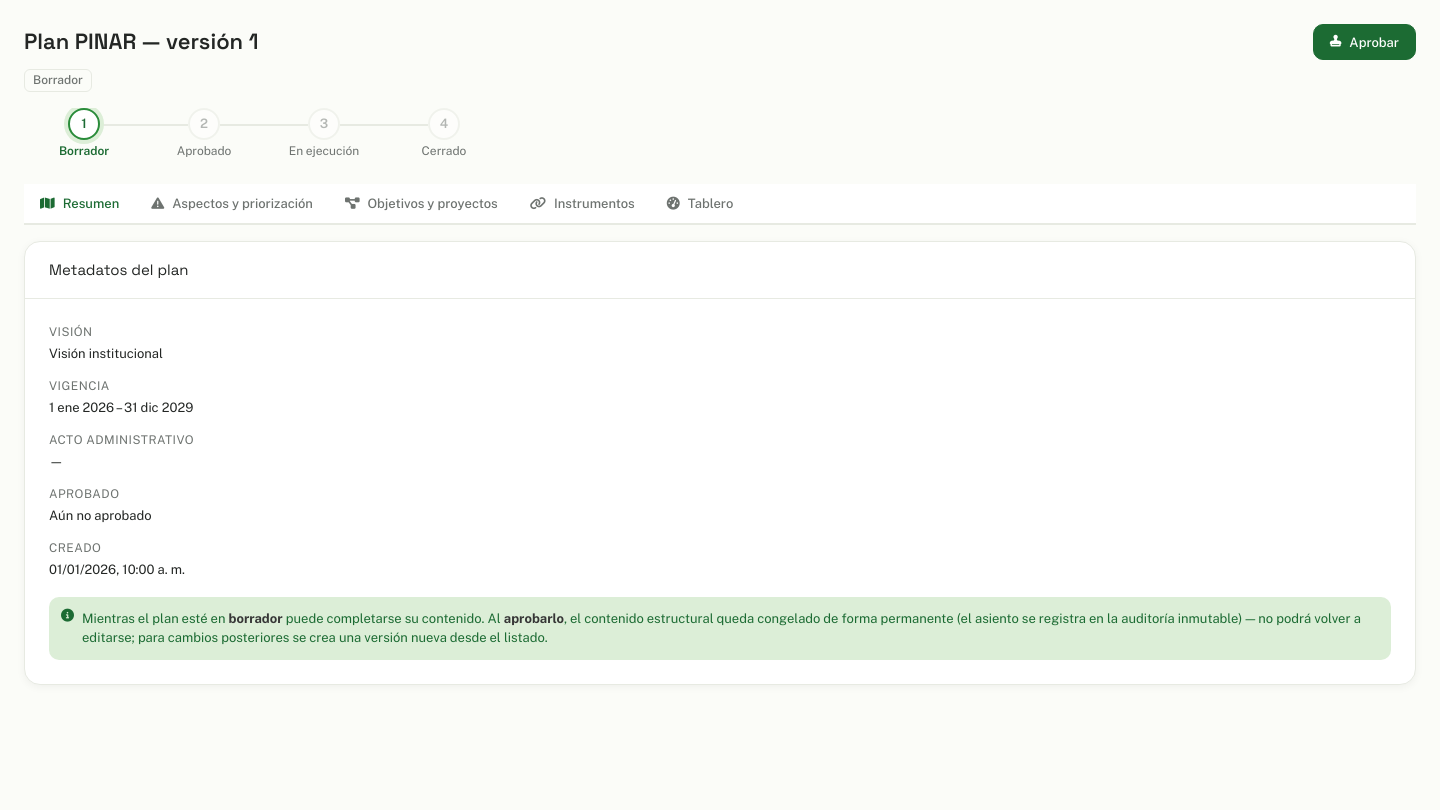
it: /admin/pinar/[id] — irreversibilidad de aprobar, advertida ANTES de confirmar › el botón 'Confirmar aprobación' está deshabilitado sin acto_administrativo
Click the button named "Aprobar" at (1364, 42), box left=1313, top=24, right=1416, bottom=60
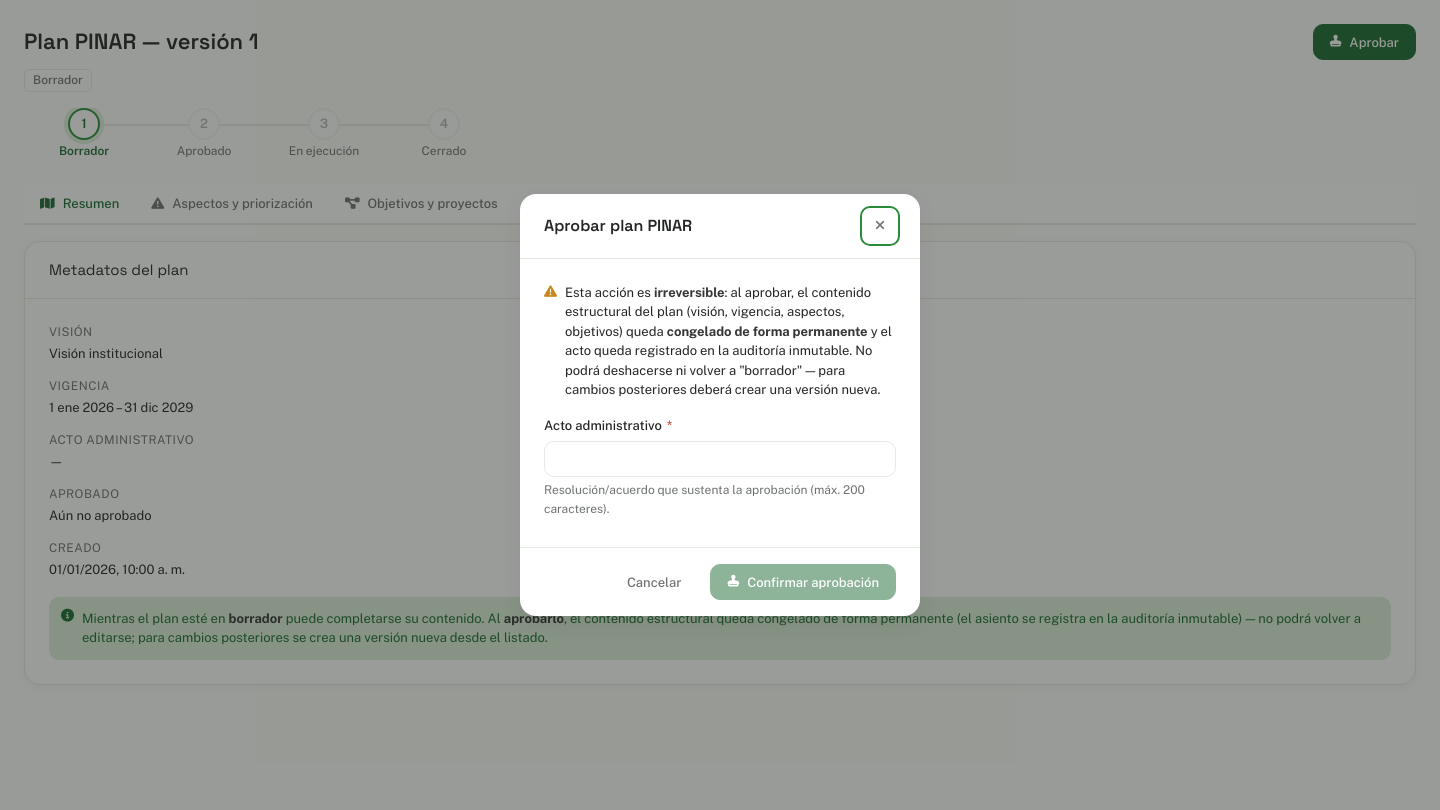
expect the 2nd button named "Confirmar aprobación" is disabled: met, box left=710, top=564, right=896, bottom=600
Type "Resolución 001 de 2026" into the field labelled "Acto administrativo *" at (720, 459), box left=544, top=441, right=896, bottom=477
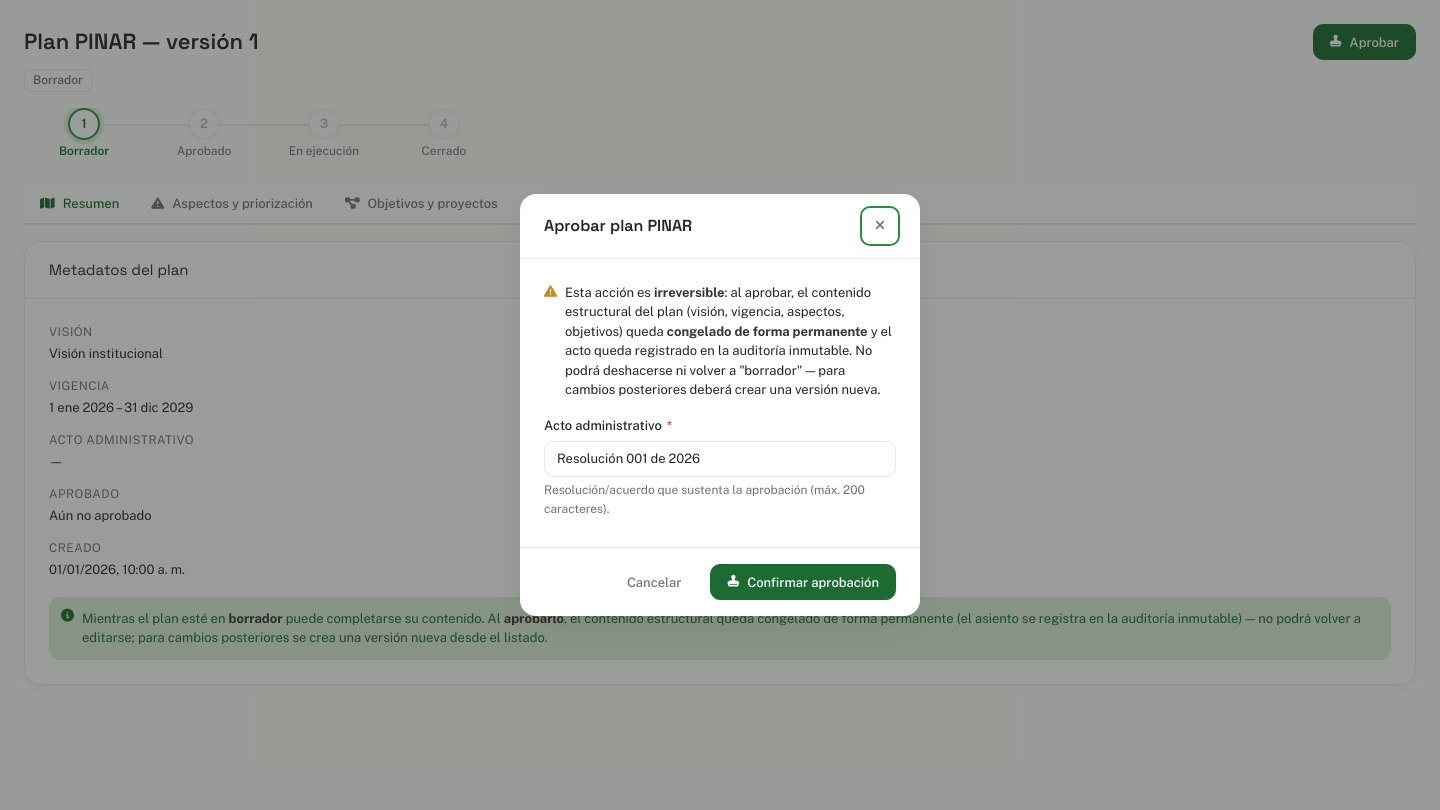
expect the 2nd button named "Confirmar aprobación" is enabled: met, box left=710, top=564, right=896, bottom=600
